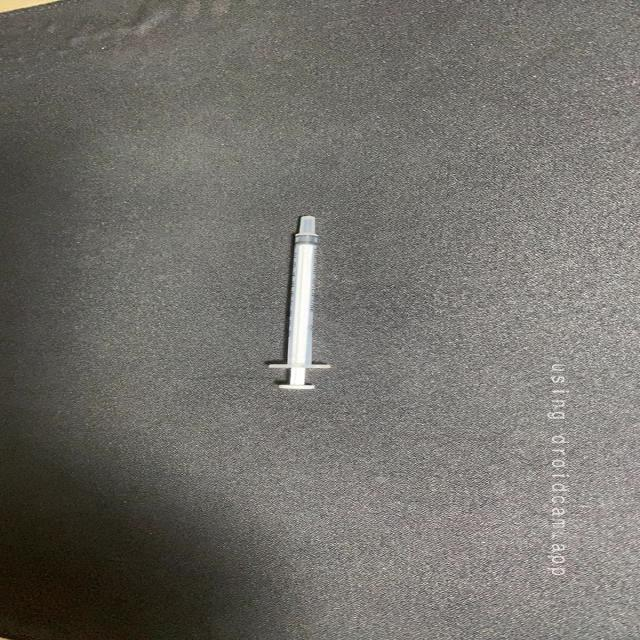syringe: (262, 210, 339, 397)
